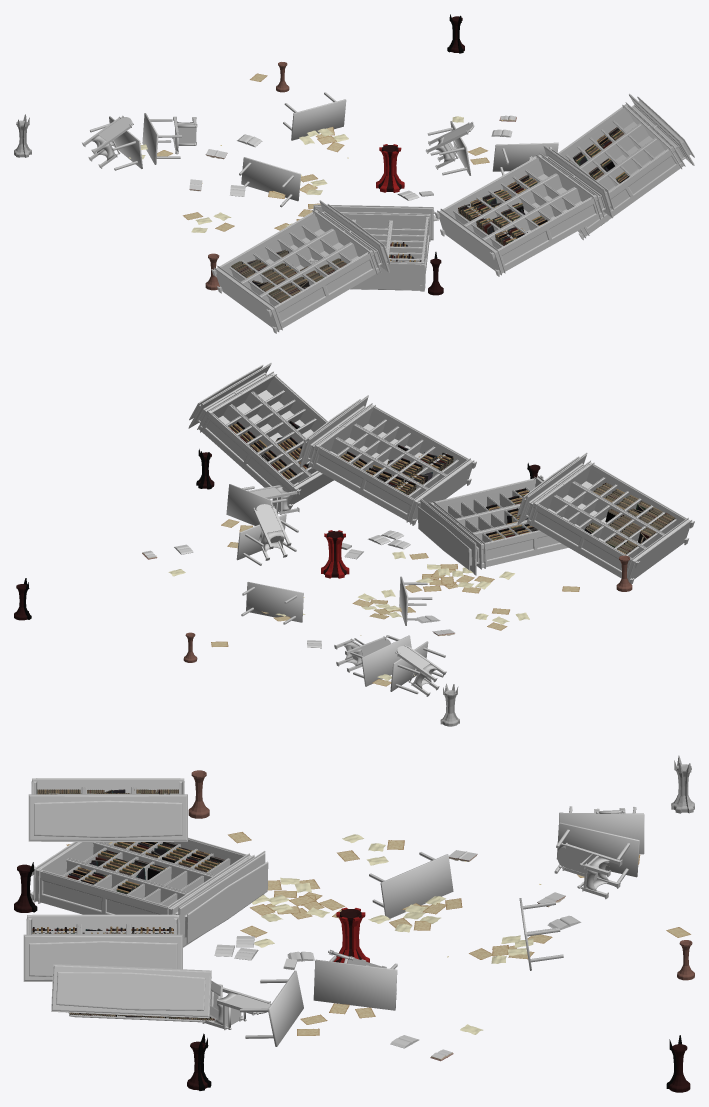
Rendered from LAST ROOM ASSTES.fbx.
3 renders of one model, top to bottom at view 1: azimuth 30°, elevation 25°; view 2: azimuth 150°, elevation 25°; view 3: azimuth 270°, elevation 25°, orthographic. The views are drawn at different scales.
Visible parts, largest first — view 1: Library_Prefab1_wanted_assets_shelf_3, polySurface123, Library_Prefab1_wanted_assets_shelf_2, Library_Prefab1_wanted_assets_shelf_1, Library_Prefab1_wanted_assets_BookOpen__27_, polySurface228, polySurface180, polySurface155, puzzle_room_Main_Reward_Holder, polySurface177, polySurface179, polySurface134; view 2: Library_Prefab1_wanted_assets_shelf_3, polySurface123, Library_Prefab1_wanted_assets_shelf_2, Library_Prefab1_wanted_assets_shelf_1, Library_Prefab1_wanted_assets_BookOpen__27_, polySurface180, polySurface177, polySurface155, puzzle_room_Main_Reward_Holder, polySurface179, polySurface134; view 3: Library_Prefab1_wanted_assets_shelf_1, Library_Prefab1_wanted_assets_shelf_3, Library_Prefab1_wanted_assets_BookOpen__27_, polySurface123, Library_Prefab1_wanted_assets_shelf_2, polySurface228, polySurface177, polySurface179, polySurface134, puzzle_room_Main_Reward_Holder, puzzle_room_First_Orb_Holder1, puzzle_room_Third_Orb_Holder__2_ (+3 smaller).
Part boxes in pixels (box(x1,y1,x2,y2)): Library_Prefab1_wanted_assets_shelf_3: box(211, 200, 390, 333); polySurface123: box(434, 145, 614, 276); Library_Prefab1_wanted_assets_shelf_2: box(558, 93, 694, 240); Library_Prefab1_wanted_assets_shelf_1: box(310, 204, 433, 291); Library_Prefab1_wanted_assets_BookOpen__27_: box(397, 115, 558, 221); polySurface228: box(241, 157, 300, 201); polySurface180: box(291, 99, 346, 140); polySurface155: box(82, 115, 133, 168); puzzle_room_Main_Reward_Holder: box(376, 144, 404, 192); polySurface177: box(142, 113, 181, 164); polySurface179: box(172, 116, 197, 154); polySurface134: box(109, 116, 142, 168); Library_Prefab1_wanted_assets_shelf_3: box(516, 452, 694, 584); polySurface123: box(298, 395, 476, 525); Library_Prefab1_wanted_assets_shelf_2: box(188, 362, 333, 509); Library_Prefab1_wanted_assets_shelf_1: box(418, 475, 568, 575); Library_Prefab1_wanted_assets_BookOpen__27_: box(142, 484, 410, 576); polySurface180: box(246, 582, 303, 622); polySurface177: box(350, 635, 411, 686); polySurface155: box(395, 645, 446, 696); puzzle_room_Main_Reward_Holder: box(321, 530, 349, 578); polySurface179: box(334, 636, 390, 672); polySurface134: box(390, 641, 428, 691); Library_Prefab1_wanted_assets_shelf_1: box(30, 837, 268, 947); Library_Prefab1_wanted_assets_shelf_3: box(28, 778, 187, 841); Library_Prefab1_wanted_assets_BookOpen__27_: box(202, 936, 483, 1061); polySurface123: box(23, 914, 182, 981); Library_Prefab1_wanted_assets_shelf_2: box(51, 964, 222, 1022); polySurface228: box(380, 854, 453, 918); polySurface177: box(554, 822, 639, 887); polySurface179: box(557, 843, 622, 899); polySurface134: box(559, 812, 644, 854); puzzle_room_Main_Reward_Holder: box(333, 907, 369, 962); puzzle_room_First_Orb_Holder1: box(671, 755, 694, 813); puzzle_room_Third_Orb_Holder__2_: box(187, 1033, 211, 1090).
Bounding box in the file's own units: 160 × 30.91 × 158.
